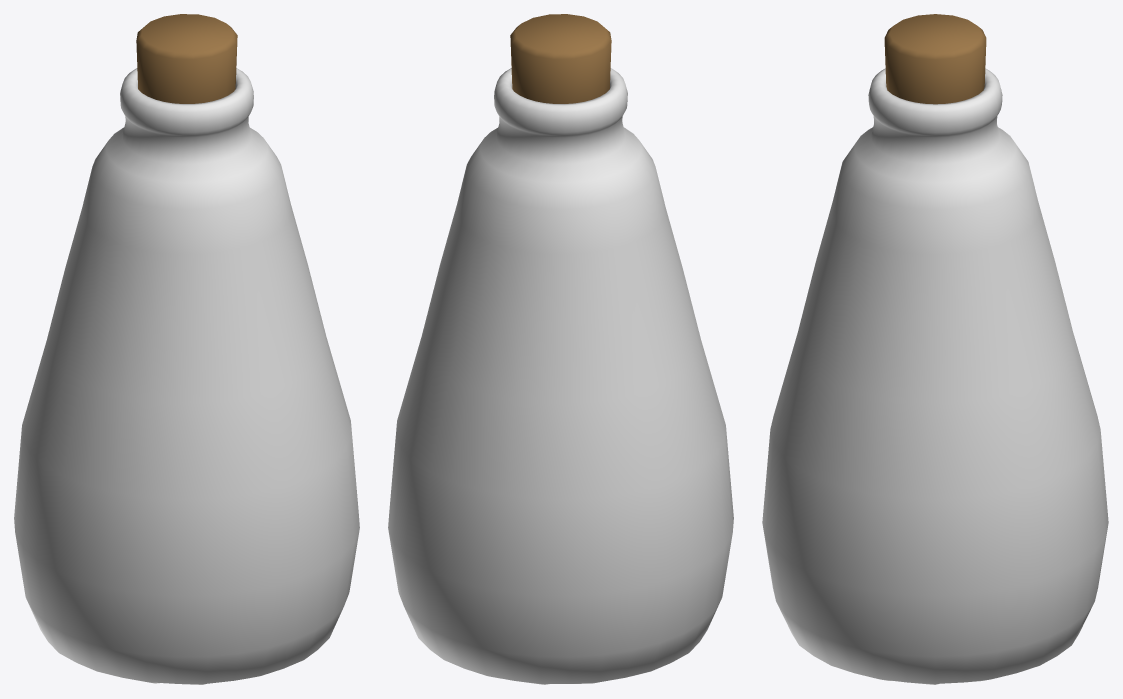
Rendered from Medium.glb.
3 renders of one model, left to right at view 1: azimuth 30°, elevation 25°; view 2: azimuth 150°, elevation 25°; view 3: azimuth 270°, elevation 25°, orthographic.
Visible parts, largest first — view 1: MediumBottle, MediumFixins; view 2: MediumBottle, MediumFixins; view 3: MediumBottle, MediumFixins.
Boxes of the visible parts, x1,y1,x2,y2 form: MediumBottle: (14,68,359,684); MediumFixins: (136,14,237,103); MediumBottle: (388,68,733,684); MediumFixins: (510,14,611,103); MediumBottle: (762,68,1108,684); MediumFixins: (884,14,986,104).
Bounding box in the file's own units: 3.3 × 6.38 × 3.3.
